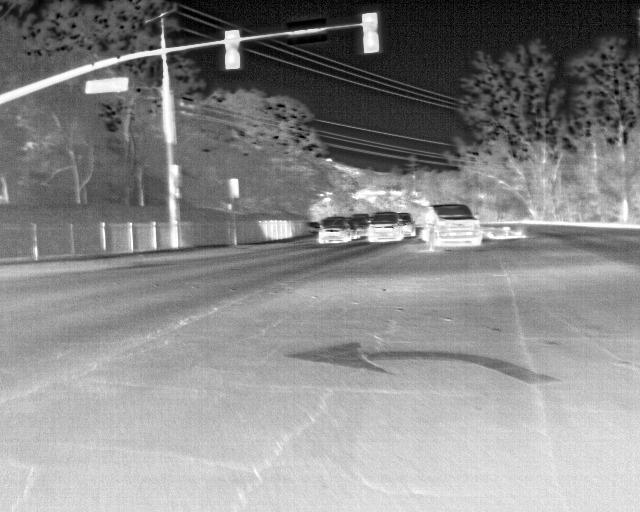car: (422, 203, 482, 246), (368, 210, 404, 241), (314, 214, 352, 242), (349, 212, 370, 236), (397, 212, 417, 236)
